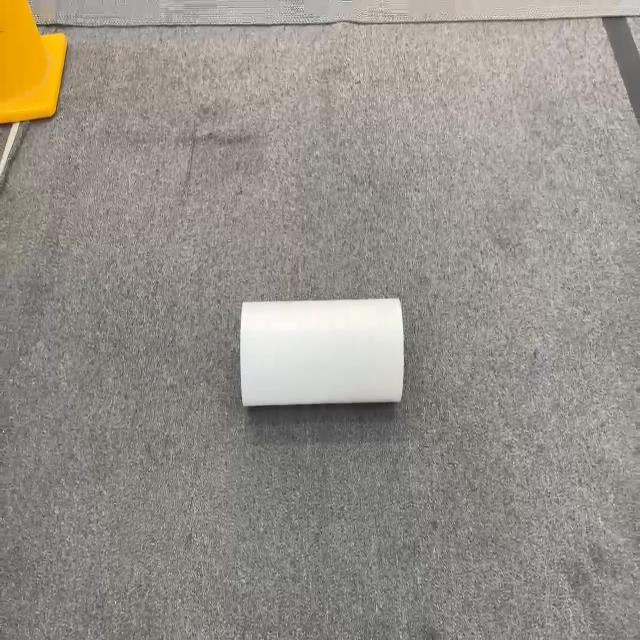coral: (239, 295, 405, 407)
